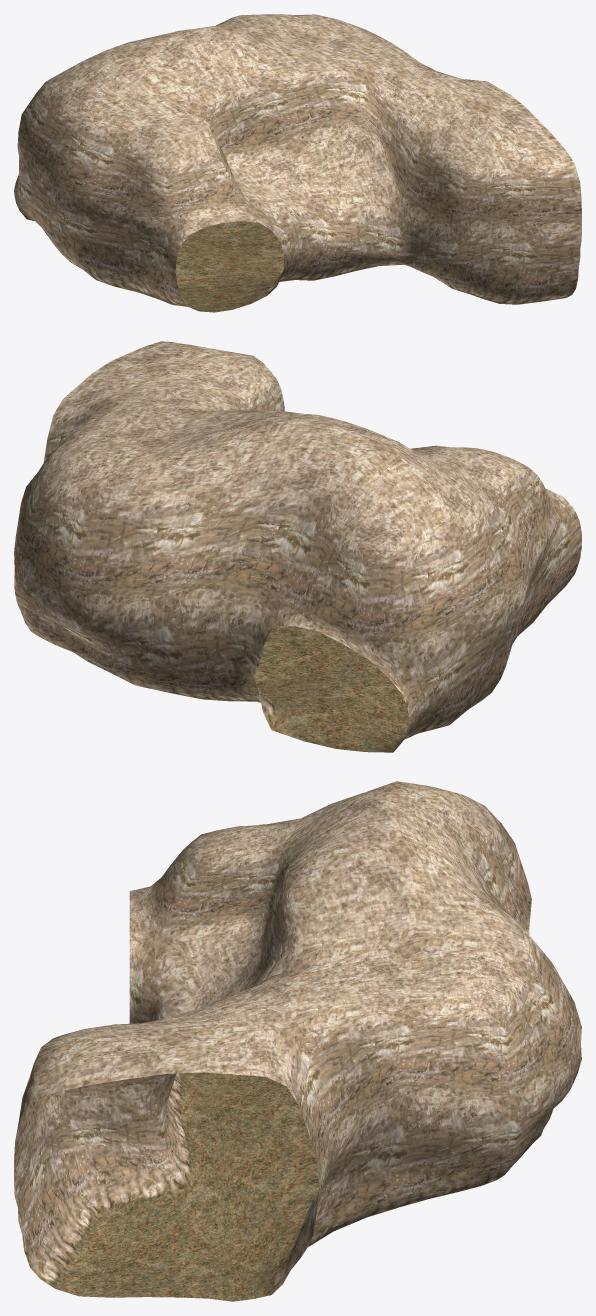
The model's file is thm_all_cave_flatland_s01_r3_mesh_r3.fbx.
3 views of the same model, one above another, from view 1: azimuth 30°, elevation 25°; view 2: azimuth 150°, elevation 25°; view 3: azimuth 270°, elevation 25° (orthographic). The views are drawn at different scales.
Parts seen in each view (by area): view 1: mesh_node; view 2: mesh_node; view 3: mesh_node.
Part boxes in pixels (x1,y1,x2,y2): mesh_node: [14, 14, 581, 312]; mesh_node: [14, 341, 581, 752]; mesh_node: [14, 781, 581, 1301].
Size of the model in its own units: 51.47 by 30.23 by 47.83.
